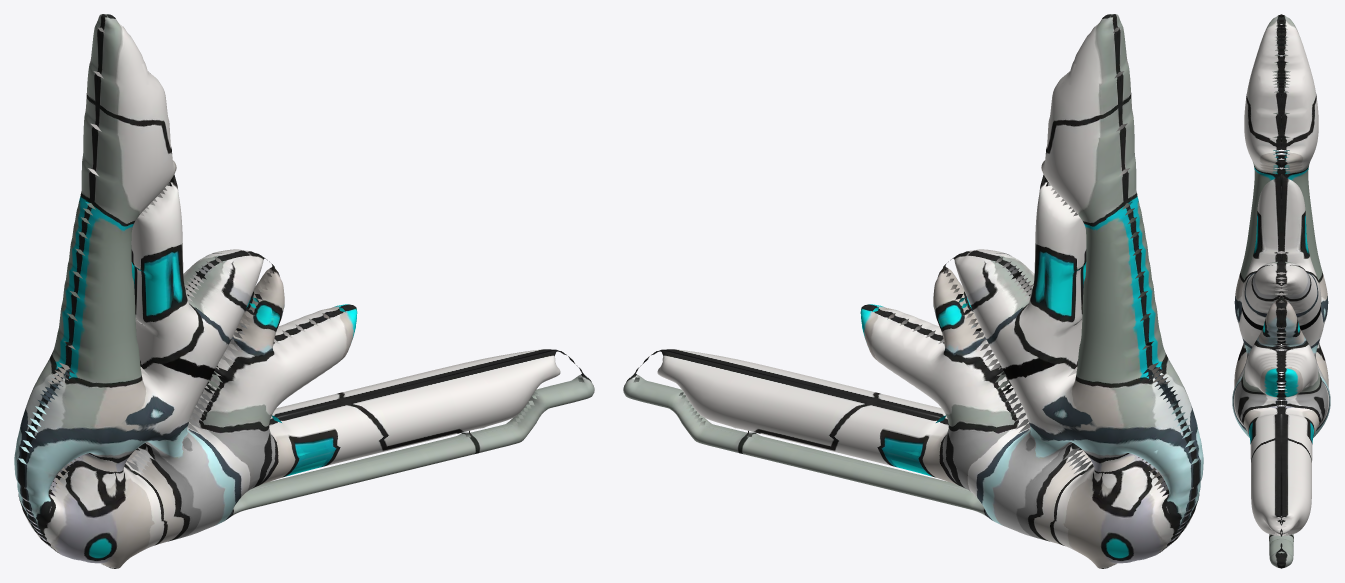
Rendered from front_corner_mount.glb.
3 renders of one model, left to right at view 1: azimuth 30°, elevation 25°; view 2: azimuth 150°, elevation 25°; view 3: azimuth 270°, elevation 25°, orthographic. The views are drawn at different scales.
Parts seen in each view (by area): view 1: front_corner_mount; view 2: front_corner_mount; view 3: front_corner_mount.
Part boxes in pixels (x1,y1,x2,y2): front_corner_mount: [14, 14, 594, 568]; front_corner_mount: [623, 14, 1203, 568]; front_corner_mount: [1232, 14, 1330, 568].
Size of the model in its own units: 0.9888 by 0.8898 by 0.1963.
Materials: 1 (1 with a texture image).
